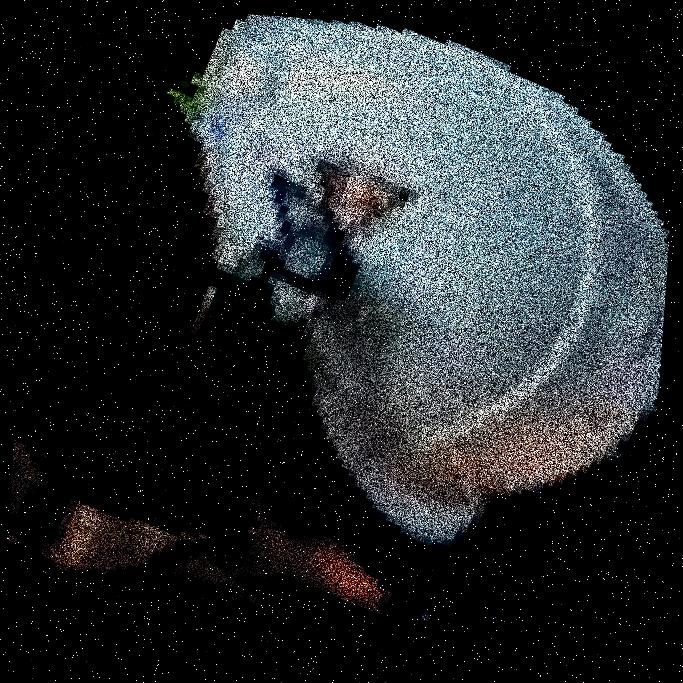Capacete: (219, 0, 573, 682)
